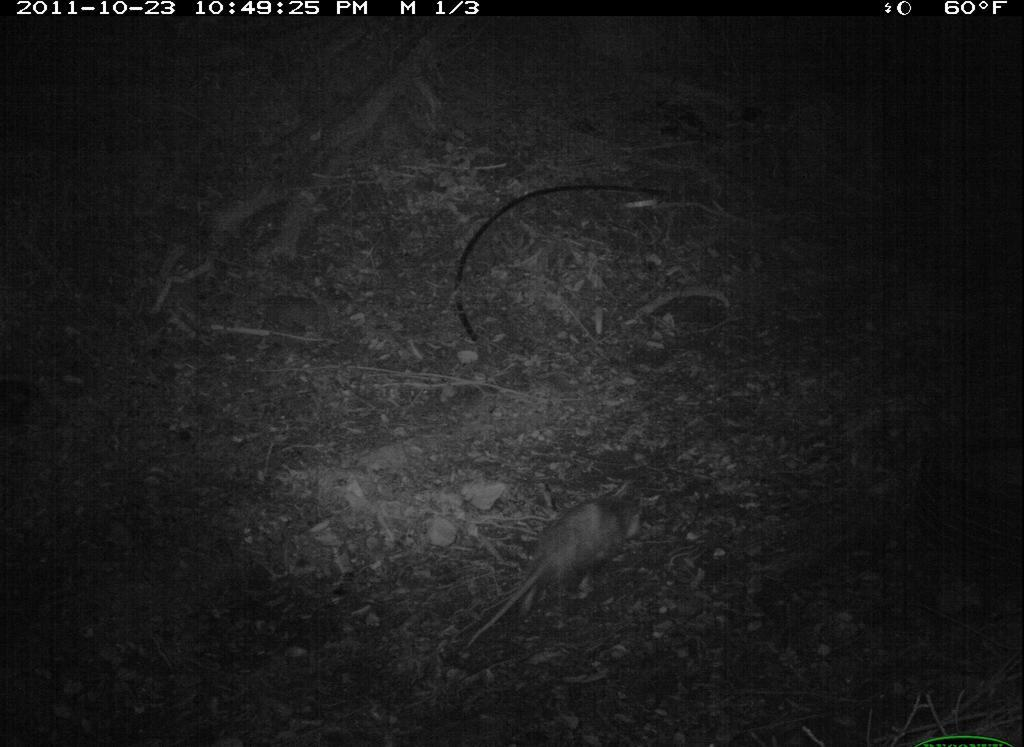opossum: (468, 478, 653, 658)
